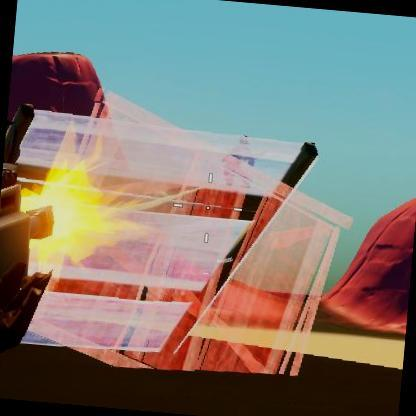person: (228, 136, 256, 195)
